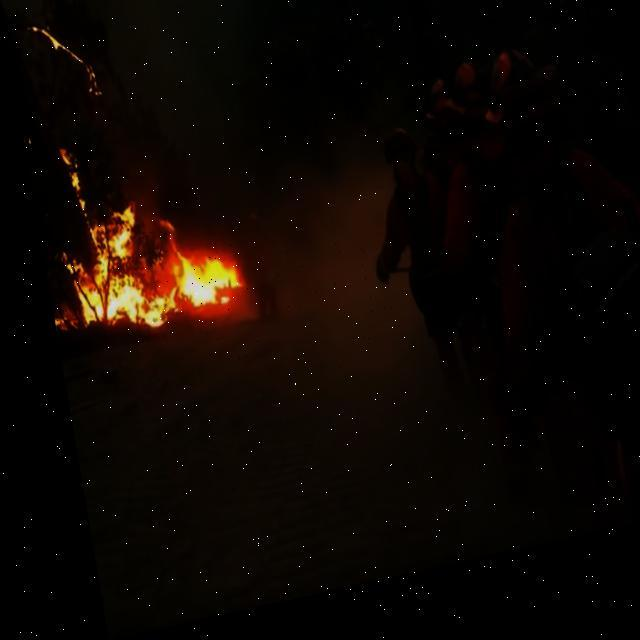Fire: (21, 101, 244, 364), (23, 8, 98, 108)
